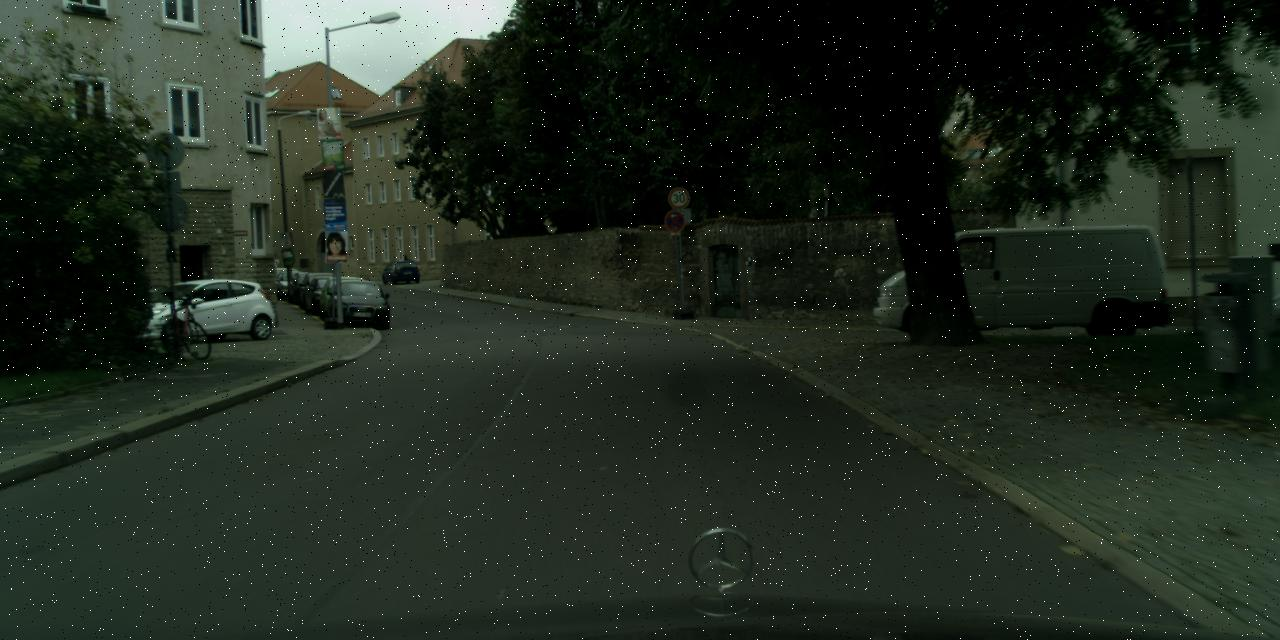ped: (402, 254, 411, 279)
